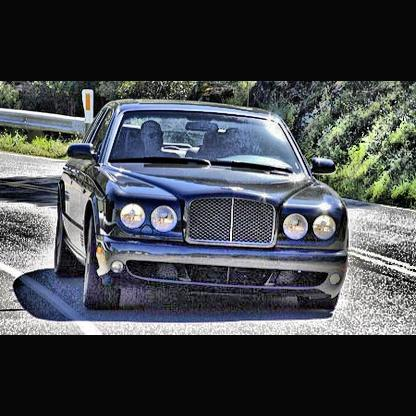Bentley Arnage Sedan 2009: (55, 98, 347, 314)
